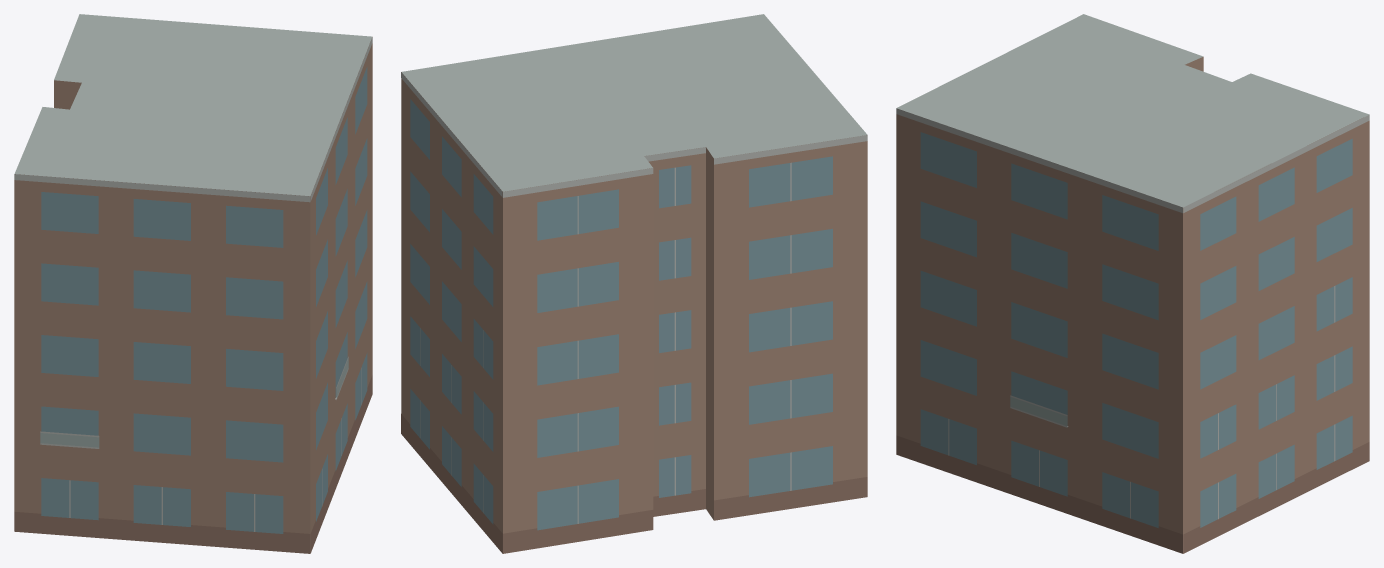
The model's file is survey-upis-32712323.glb.
3 views of the same model, side by side, from view 1: azimuth 30°, elevation 25°; view 2: azimuth 150°, elevation 25°; view 3: azimuth 270°, elevation 25° (orthographic). The views are drawn at different scales.
Visible parts, largest first — view 1: survey-upis-32712323.tmp; view 2: survey-upis-32712323.tmp; view 3: survey-upis-32712323.tmp.
Boxes of the visible parts, left/top/right/bottom form: survey-upis-32712323.tmp: left=14, top=14, right=372, bottom=553; survey-upis-32712323.tmp: left=401, top=14, right=867, bottom=553; survey-upis-32712323.tmp: left=896, top=14, right=1369, bottom=553.
Size of the model in its own units: 17.26 by 14.4 by 17.84.
